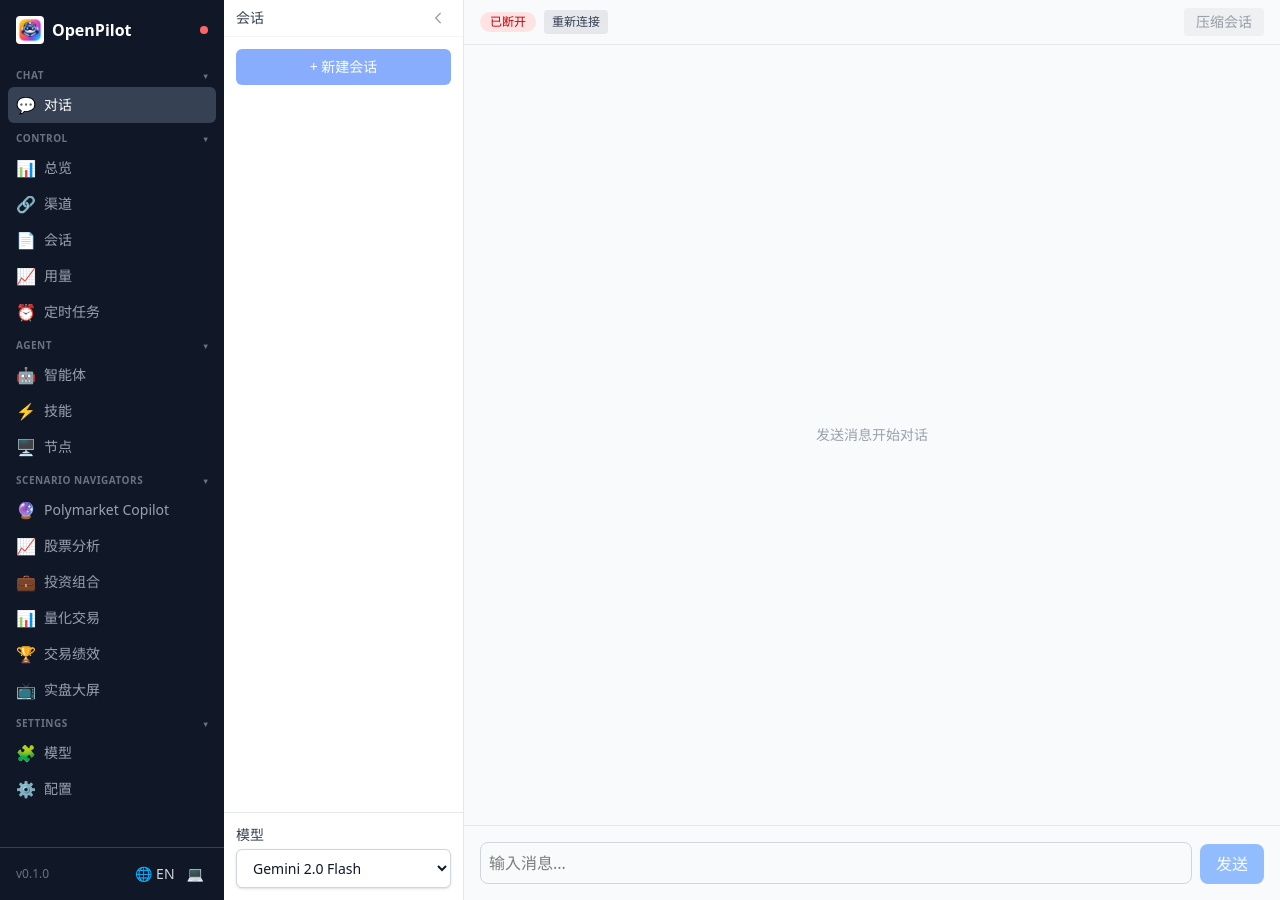
Test: AppLayout › switches view when nav tab is clicked
The image size is (1280, 900).
# Click on "总览" (overview) tab — unambiguous
Click the text "总览" at point(58, 168), box [44, 158, 72, 178]
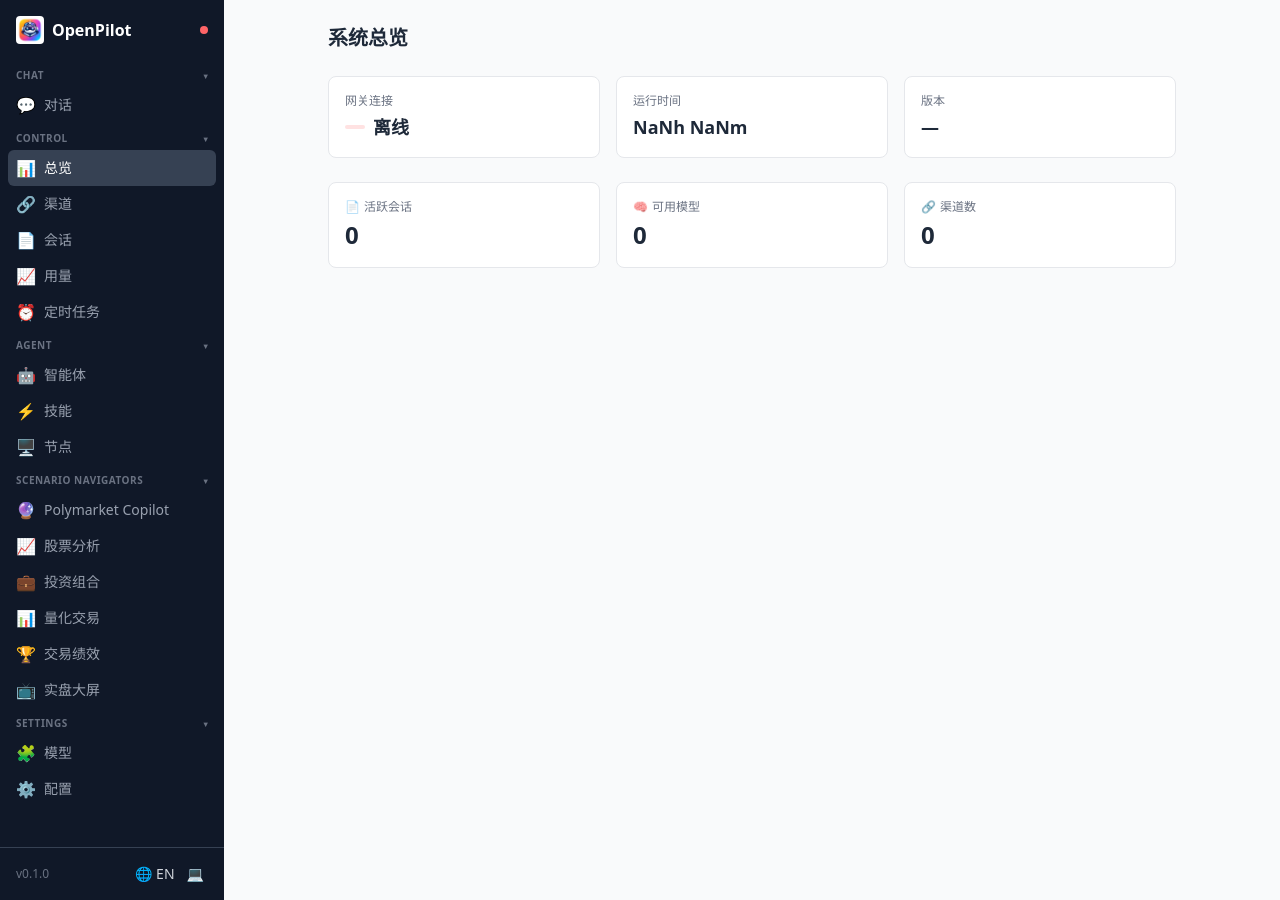
Expected: the heading "系统总览" is shown, [328, 24, 408, 51]
